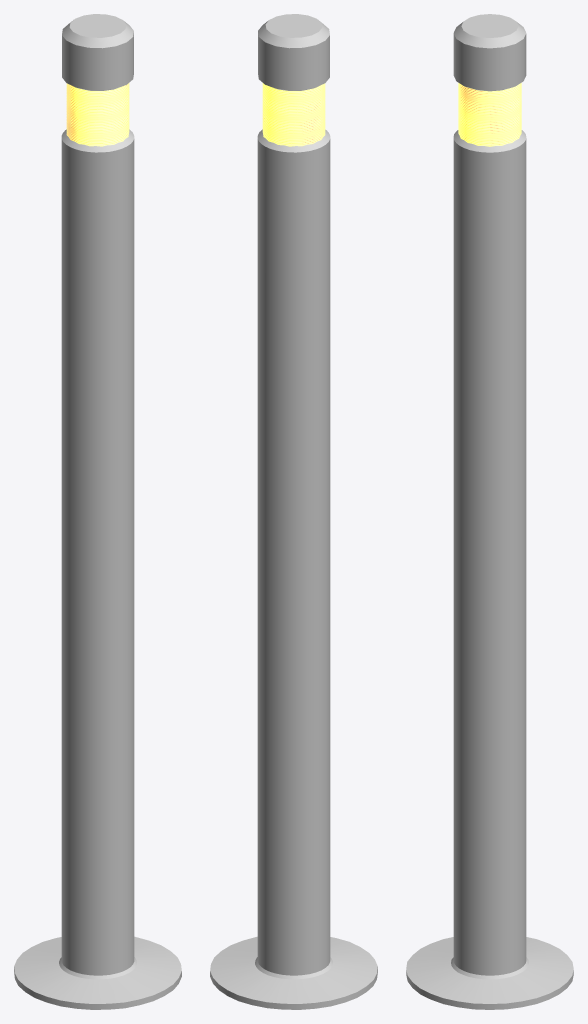
Rendered from KB3D_CBP_Antenna_F.fbx.
3 renders of one model, left to right at view 1: azimuth 30°, elevation 25°; view 2: azimuth 150°, elevation 25°; view 3: azimuth 270°, elevation 25°, orthographic.
Visible parts, largest first — view 1: KB3D_CBP_Antenna_F_Main; view 2: KB3D_CBP_Antenna_F_Main; view 3: KB3D_CBP_Antenna_F_Main.
Boxes of the visible parts, x1,y1,x2,y2 form: KB3D_CBP_Antenna_F_Main: (14, 14, 181, 1009); KB3D_CBP_Antenna_F_Main: (210, 14, 377, 1009); KB3D_CBP_Antenna_F_Main: (406, 14, 573, 1009).
Size of the model in its own units: 116 by 723 by 116.
